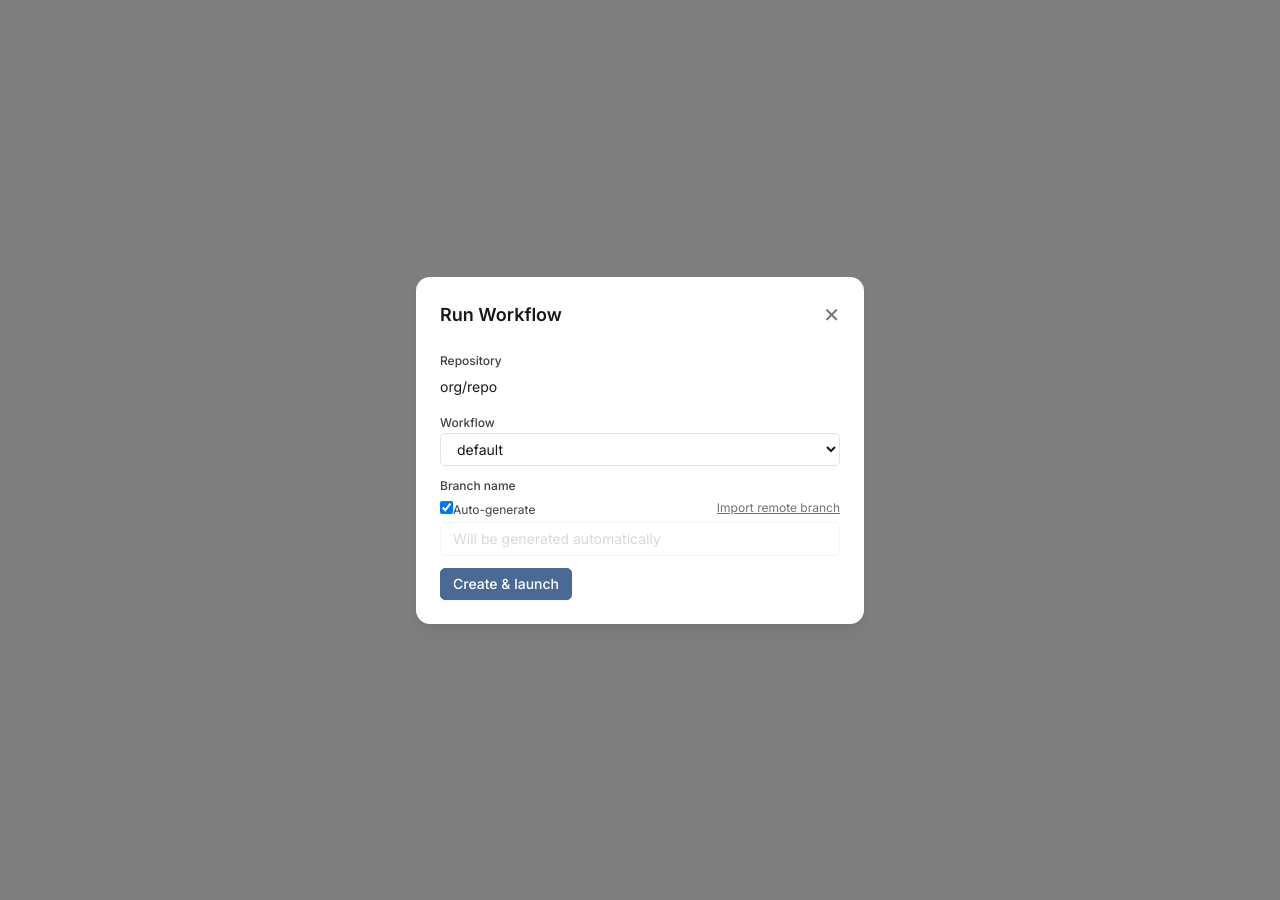
Test: RunWorkflowModal › import remote branch mode › can toggle back to auto-generate mode
Expected: the text "Auto-generate" is shown, [453,502,535,516]
Enter import mode
Click the button "Import remote branch": (778, 508) [717,500,840,516]
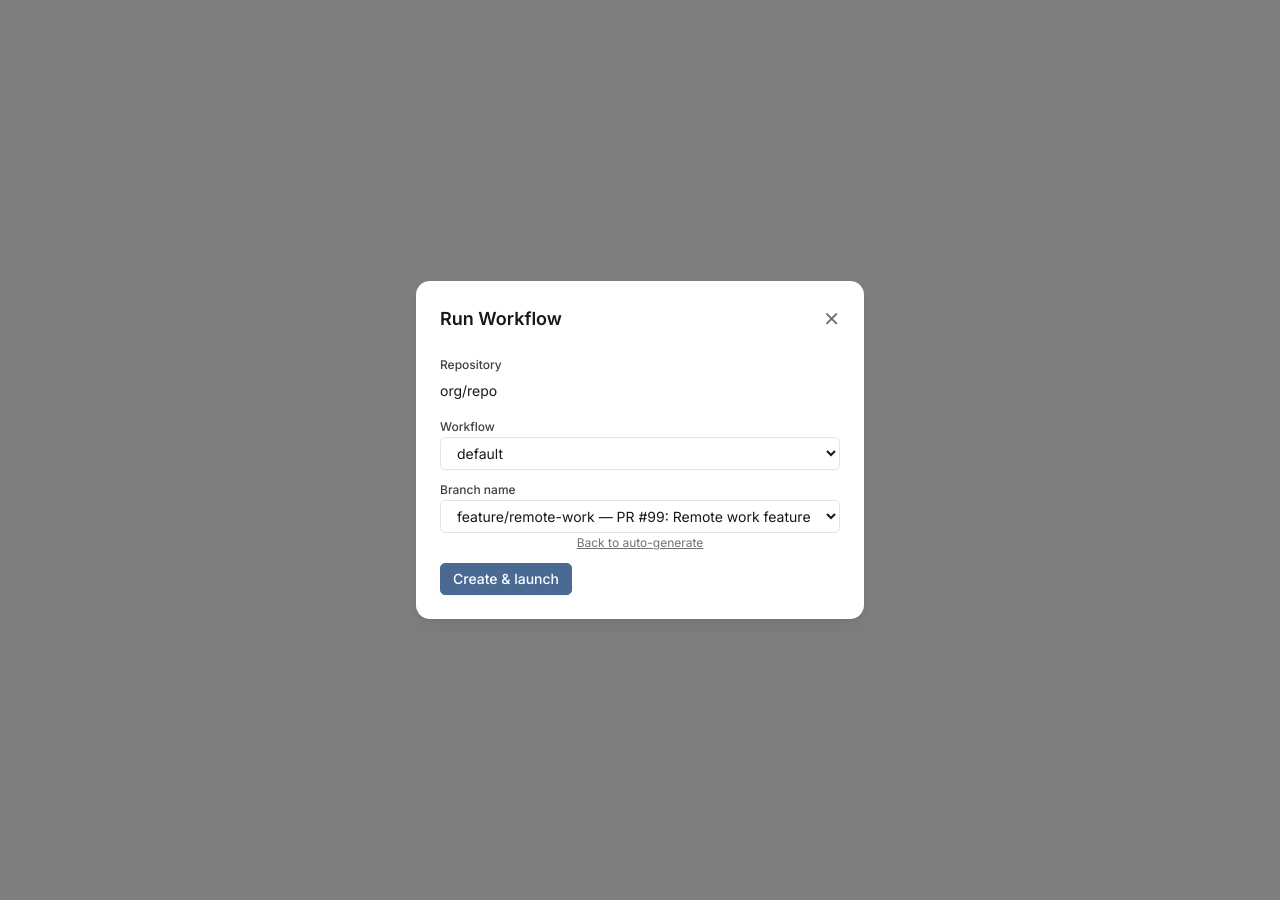
Expected: the dropdown labelled "Branch name" is shown, [440,500,840,533]
Toggle back by clicking "Back to auto-generate" button
Click the button "Back to auto-generate": (640, 543) [440,535,840,551]
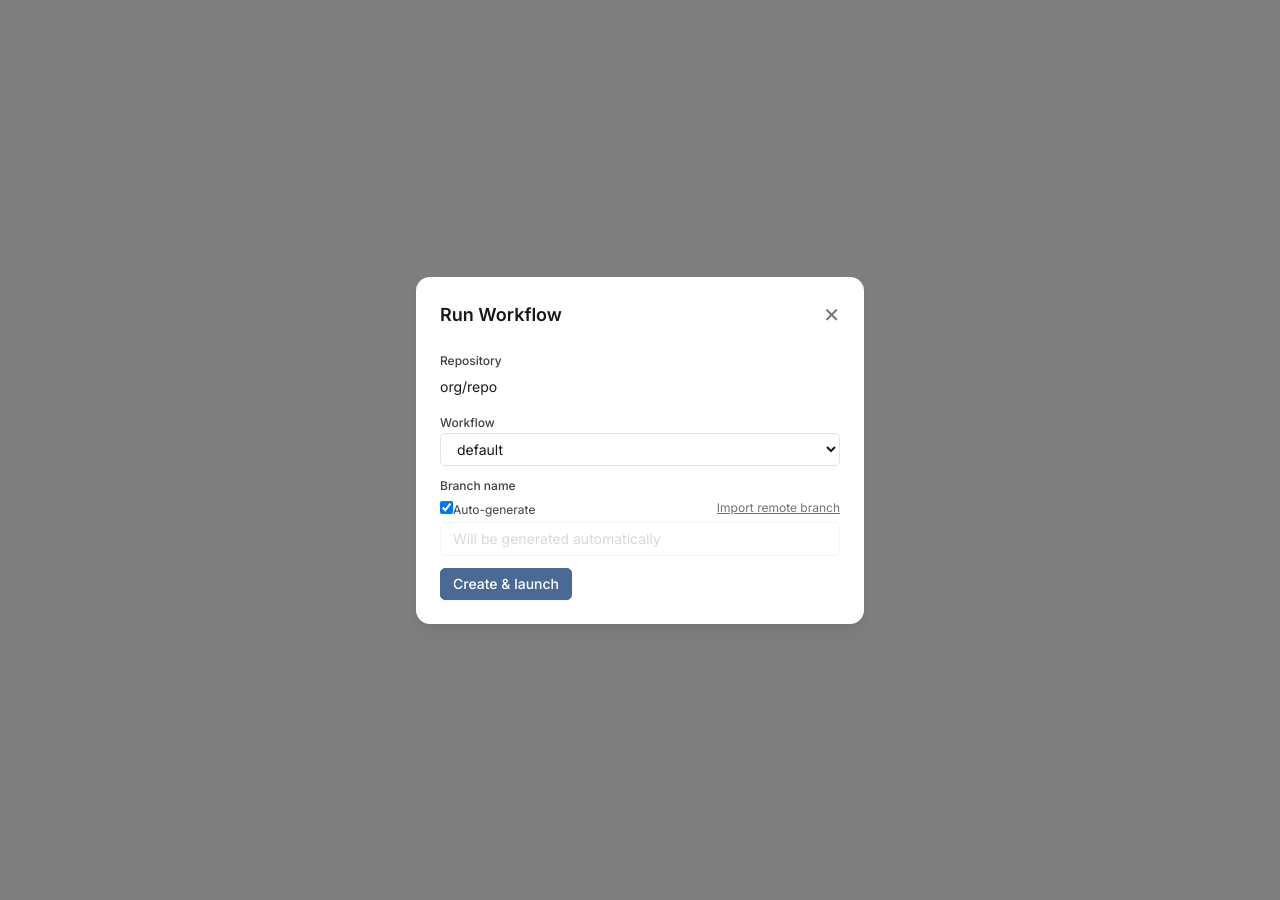
Expected: the field with placeholder "Will be generated automatically" is disabled, [440,522,840,556]
